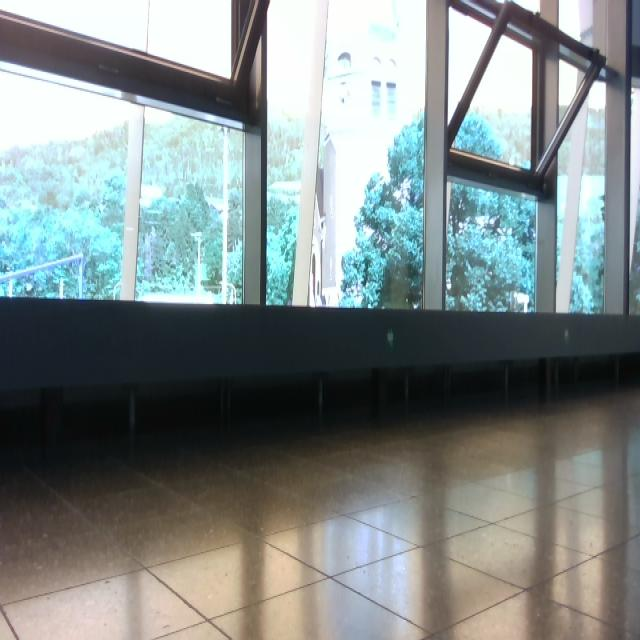pillar: (291, 1, 329, 306)
tiled floor: (2, 385, 640, 638)
window: (1, 1, 640, 318)
